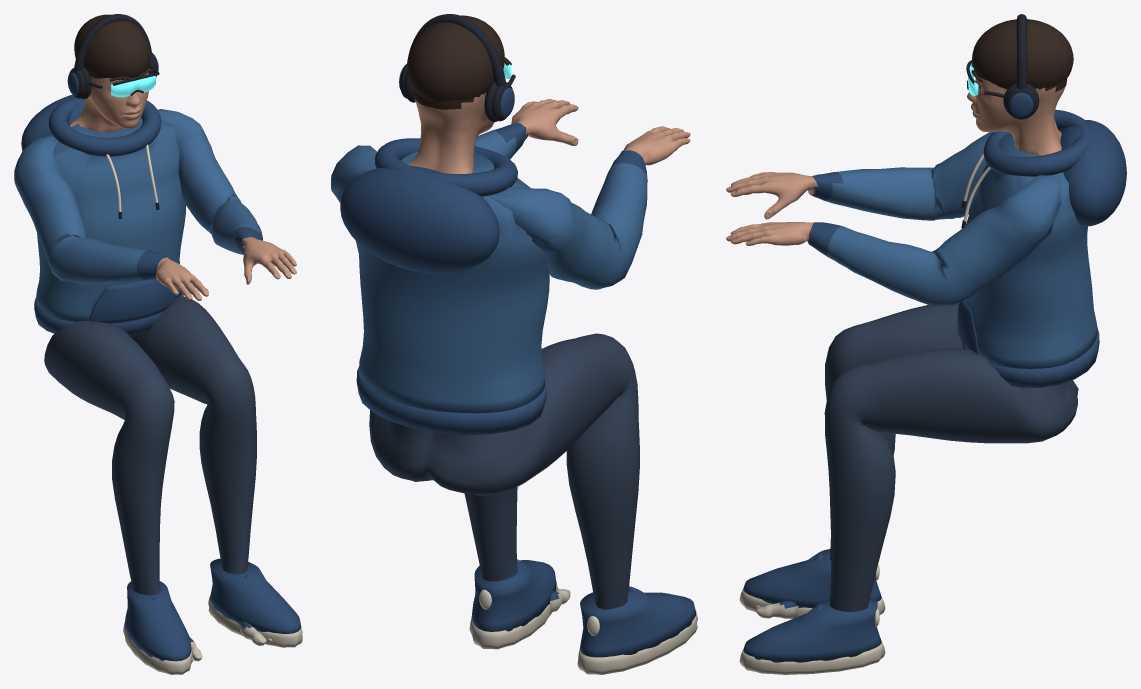
File: char_vibe_coder_seated.glb
3 renders of one model, left to right at view 1: azimuth 30°, elevation 25°; view 2: azimuth 150°, elevation 25°; view 3: azimuth 270°, elevation 25°, orthographic. The views are drawn at different scales.
Visible parts, largest first — view 1: char_vibe_coder_seated; view 2: char_vibe_coder_seated; view 3: char_vibe_coder_seated.
Boxes of the visible parts, x1,y1,x2,y2 form: char_vibe_coder_seated: (14, 14, 302, 674); char_vibe_coder_seated: (331, 14, 697, 674); char_vibe_coder_seated: (726, 14, 1126, 674).
Size of the model in its own units: 0.5123 by 1.41 by 0.8277.
Materials: 10 (10 with a texture image).
